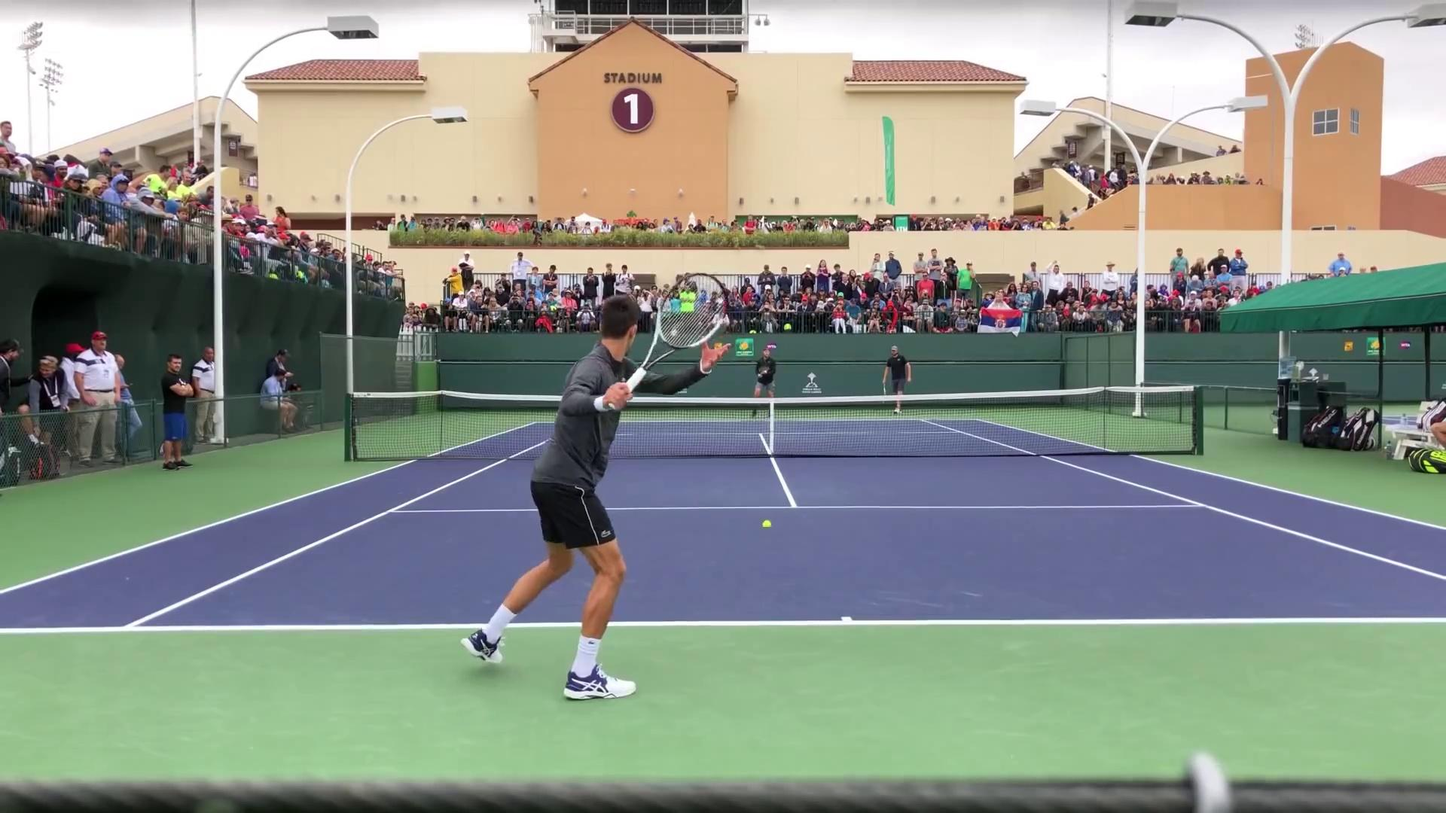ball: (760, 519, 774, 533)
